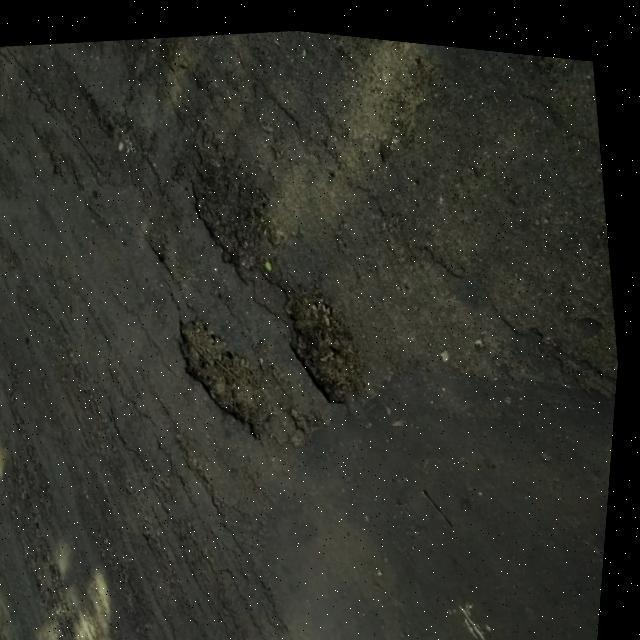pothole: (164, 284, 284, 451), (270, 268, 384, 412)
